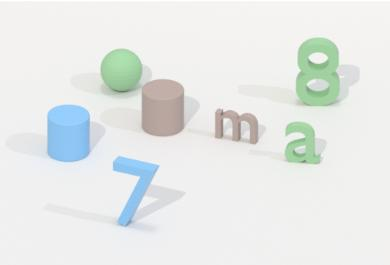0-KhoiTru: (41, 101, 97, 166), (138, 76, 187, 141)
0-Tron: (98, 45, 145, 93)
7: (108, 151, 161, 230)
8: (292, 34, 344, 110)
a: (281, 118, 325, 168)
m: (211, 106, 261, 148)
